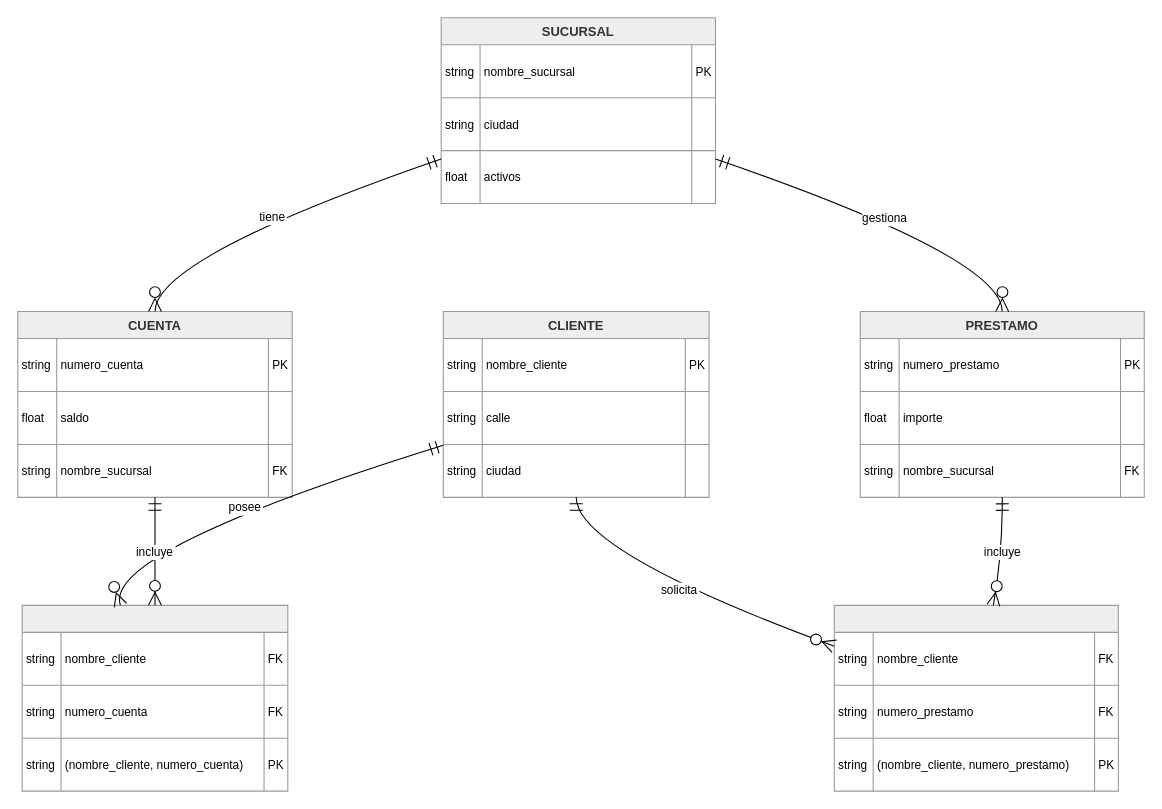
Some shapes in this 1162 by 809 pixel diagram are drawn without their labels. Here are the shapes that lost their labels. From the top down, the box of each, then its label:
(21, 604, 288, 791): IMPOSITOR
(833, 604, 1118, 791): PRESTATARIO
